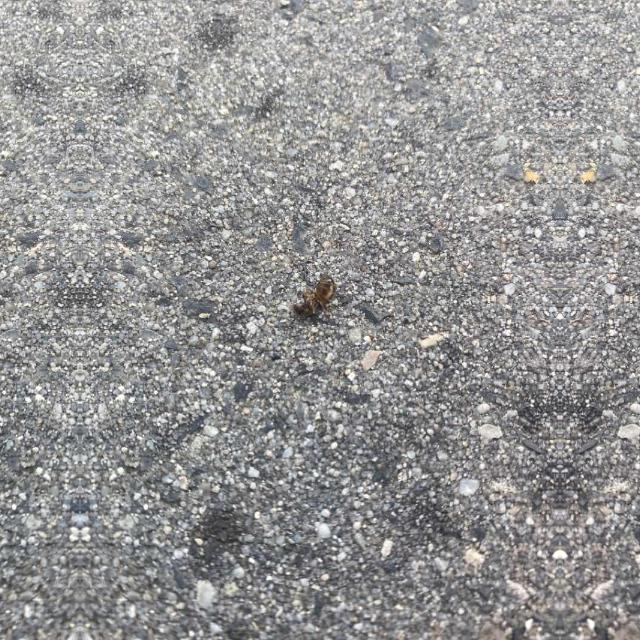Lasius: (272, 254, 346, 340)
